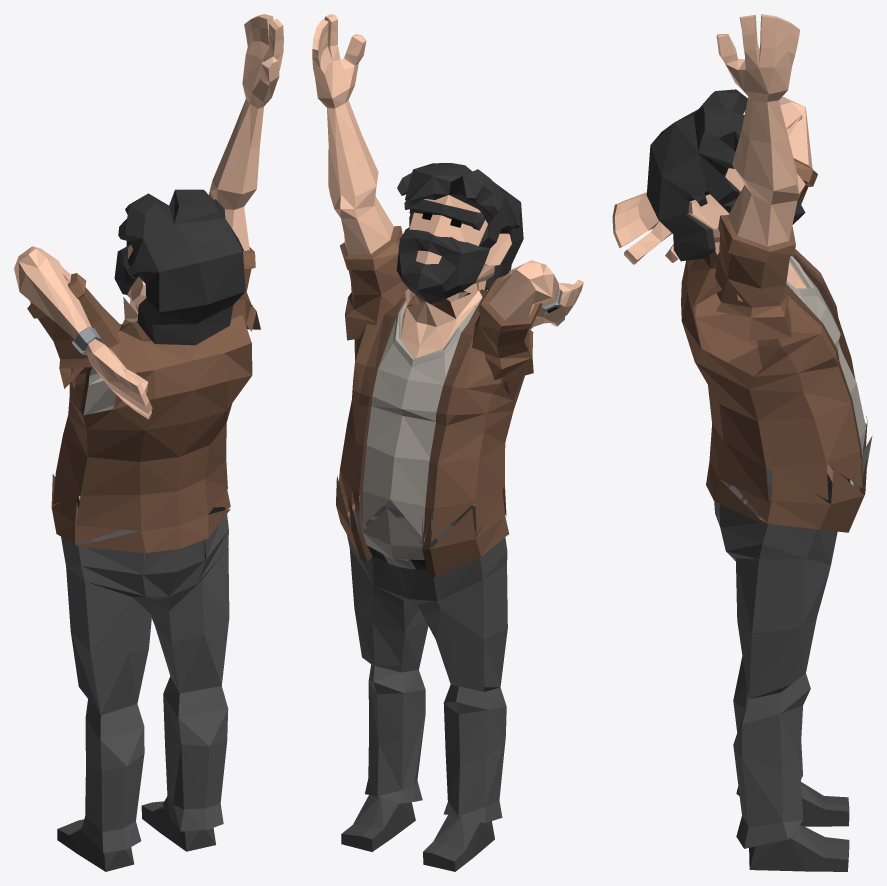
Rendered from Satan_phone.obj.
The picture shows the model from 3 angles, left to right: view 1: azimuth 30°, elevation 25°; view 2: azimuth 150°, elevation 25°; view 3: azimuth 270°, elevation 25°; orthographic projection. The views are drawn at different scales.
Visible parts, largest first — view 1: Satan_phone; view 2: Satan_phone; view 3: Satan_phone.
Part boxes in pixels (box(x1,y1,x2,y2)): Satan_phone: box(14, 14, 283, 871); Satan_phone: box(312, 14, 583, 871); Satan_phone: box(612, 14, 872, 871).
Bounding box in the file's own units: 0.7088 × 2.2 × 0.585.
1 material, 1 textured.
